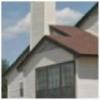chimneys: (30, 3, 56, 50)
